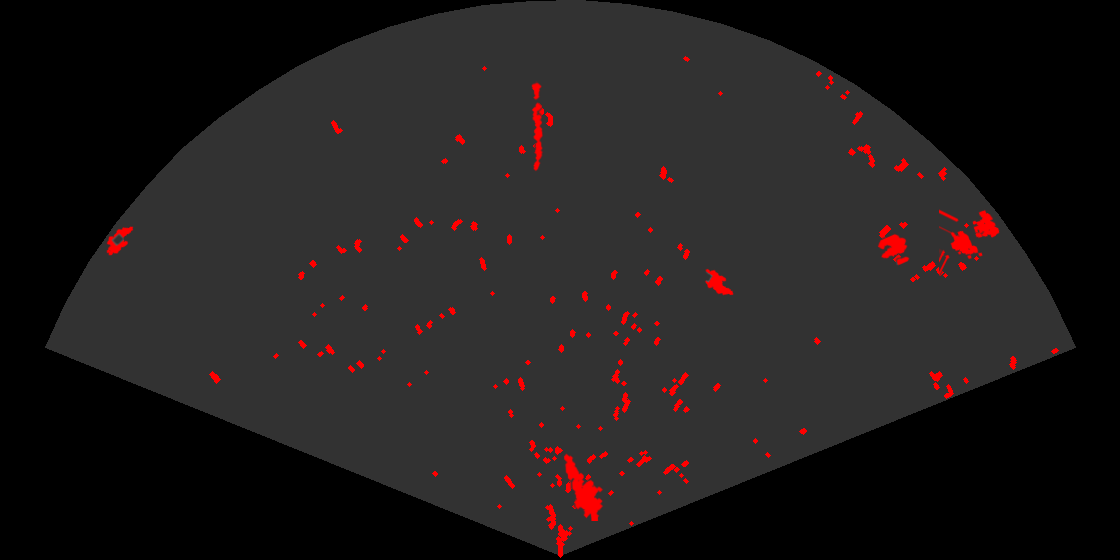AUV: (703, 267, 735, 297), (105, 225, 135, 257)
ball: (876, 232, 911, 267)
cage: (939, 208, 1001, 276)
chain: (530, 81, 545, 172)
frogman: (562, 451, 605, 521)
